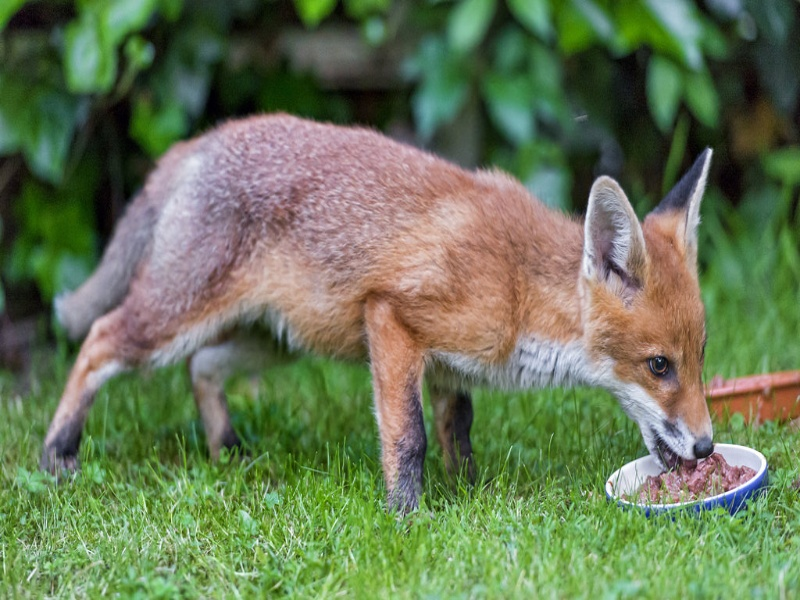fox: (43, 107, 717, 537)
